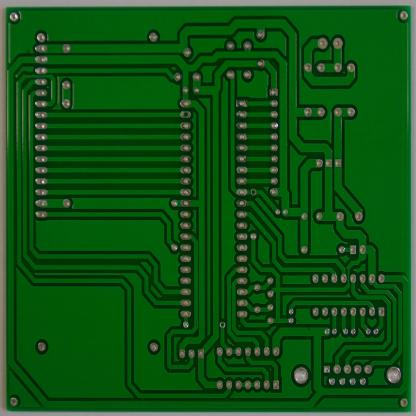missing_hole: (180, 109, 192, 120), (249, 186, 256, 198), (219, 320, 226, 331)
